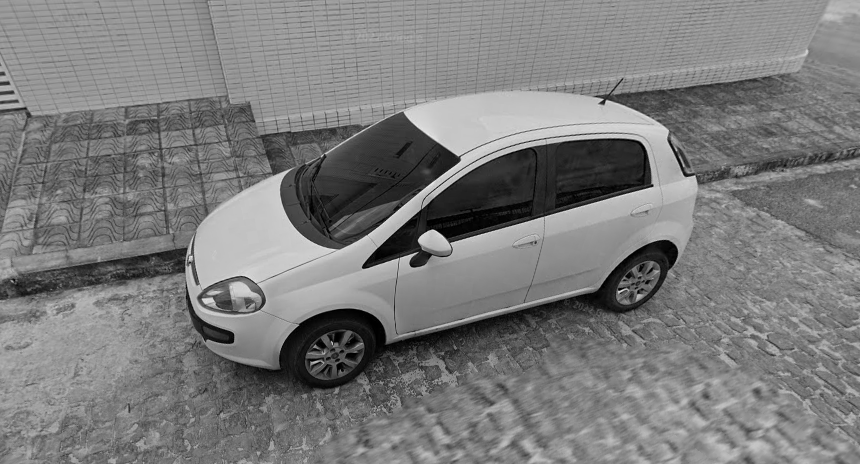car: (174, 74, 709, 401)
